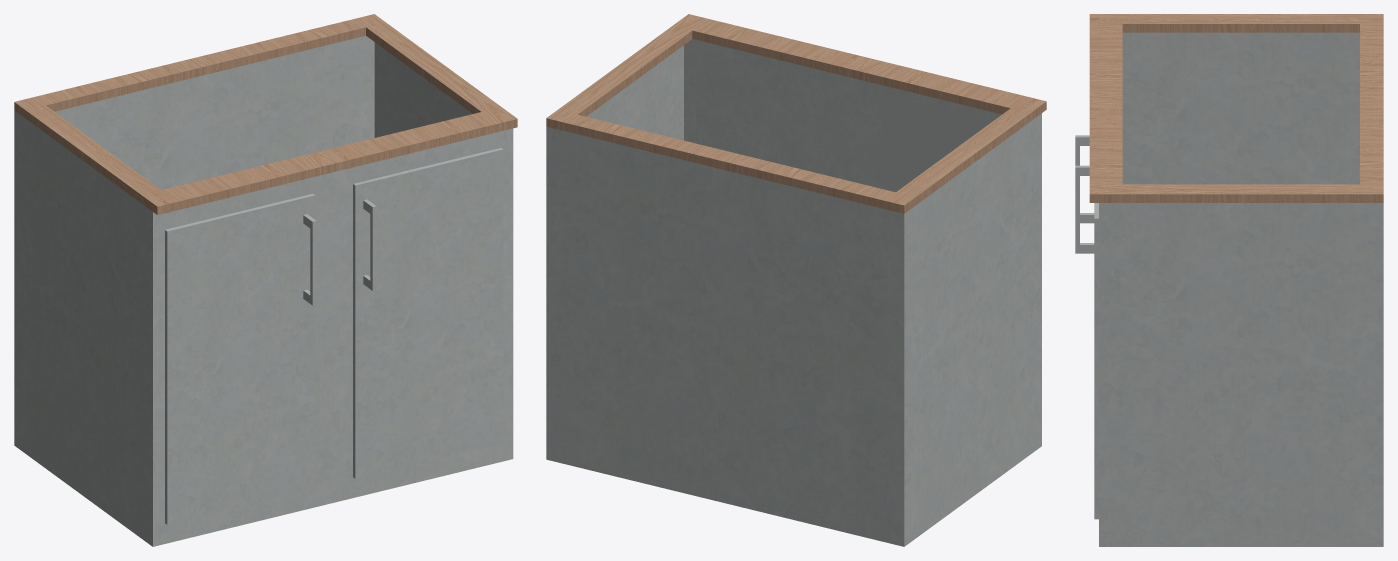
The model's file is Sink.glb.
The picture shows the model from 3 angles, left to right: view 1: azimuth 30°, elevation 25°; view 2: azimuth 150°, elevation 25°; view 3: azimuth 270°, elevation 25°; orthographic projection. The views are drawn at different scales.
Visible parts, largest first — view 1: Sink, PuertaSink_L, PuertaSink_R, TapaSink, HandleSink_R, HandeSink_L; view 2: Sink, TapaSink, PuertaSink_R, PuertaSink_L; view 3: Sink, TapaSink, PuertaSink_R, HandleSink_R, HandeSink_L.
Part boxes in pixels (<box>): Sink: <box>14,36,513,546</box>; PuertaSink_L: <box>165,193,315,524</box>; PuertaSink_R: <box>353,148,503,478</box>; TapaSink: <box>14,14,517,214</box>; HandleSink_R: <box>363,199,376,290</box>; HandeSink_L: <box>303,214,316,305</box>; Sink: <box>546,39,1041,546</box>; TapaSink: <box>546,14,1046,213</box>; PuertaSink_R: <box>696,49,843,179</box>; PuertaSink_L: <box>883,95,991,192</box>; Sink: <box>1099,32,1383,546</box>; TapaSink: <box>1089,14,1383,202</box>; PuertaSink_R: <box>1094,203,1098,519</box>; HandleSink_R: <box>1075,165,1094,253</box>; HandeSink_L: <box>1075,135,1094,223</box>.
Size of the model in its own units: 0.9 by 0.82 by 0.65.
2 materials, 2 textured.
